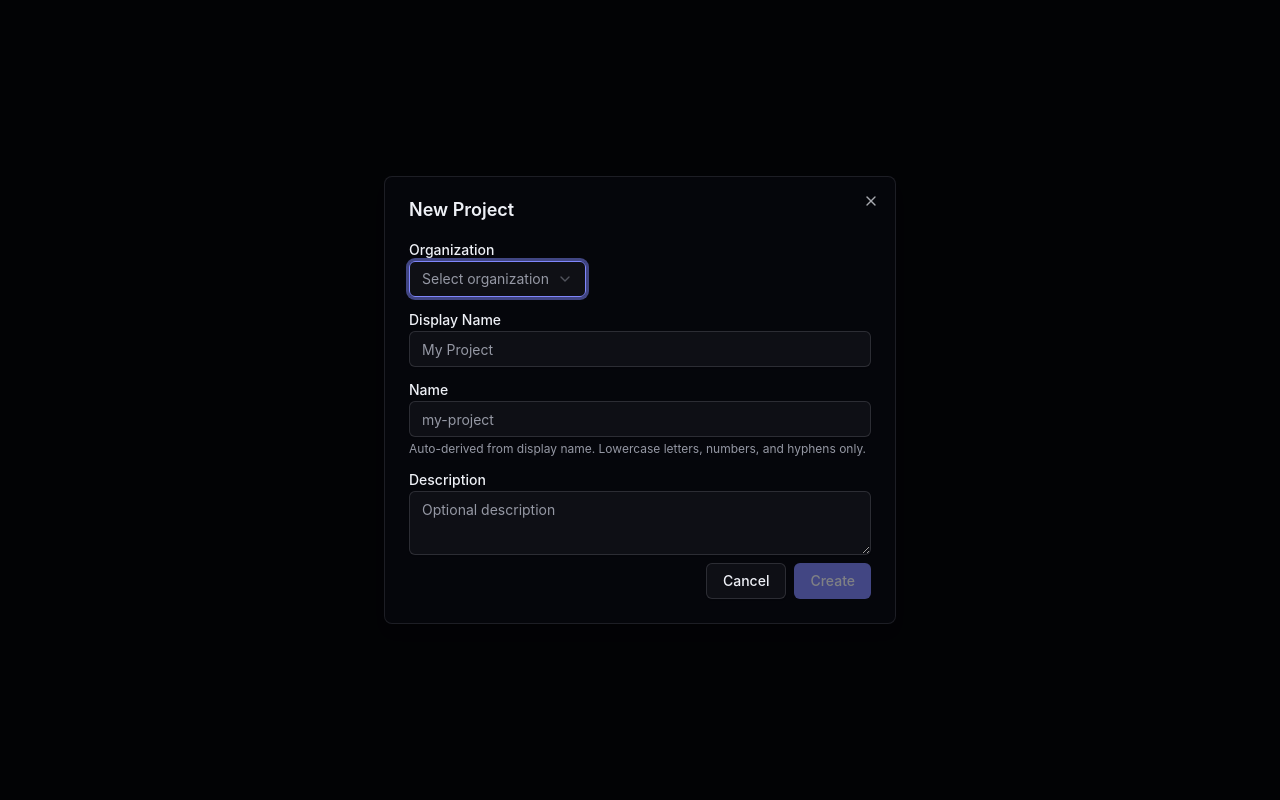
Test: CreateProjectDialog › re-enables auto-derivation when reset link is clicked
Type "Test Project" into the field with placeholder "My Project" at point(640, 349), box 409,331 -> 871,367
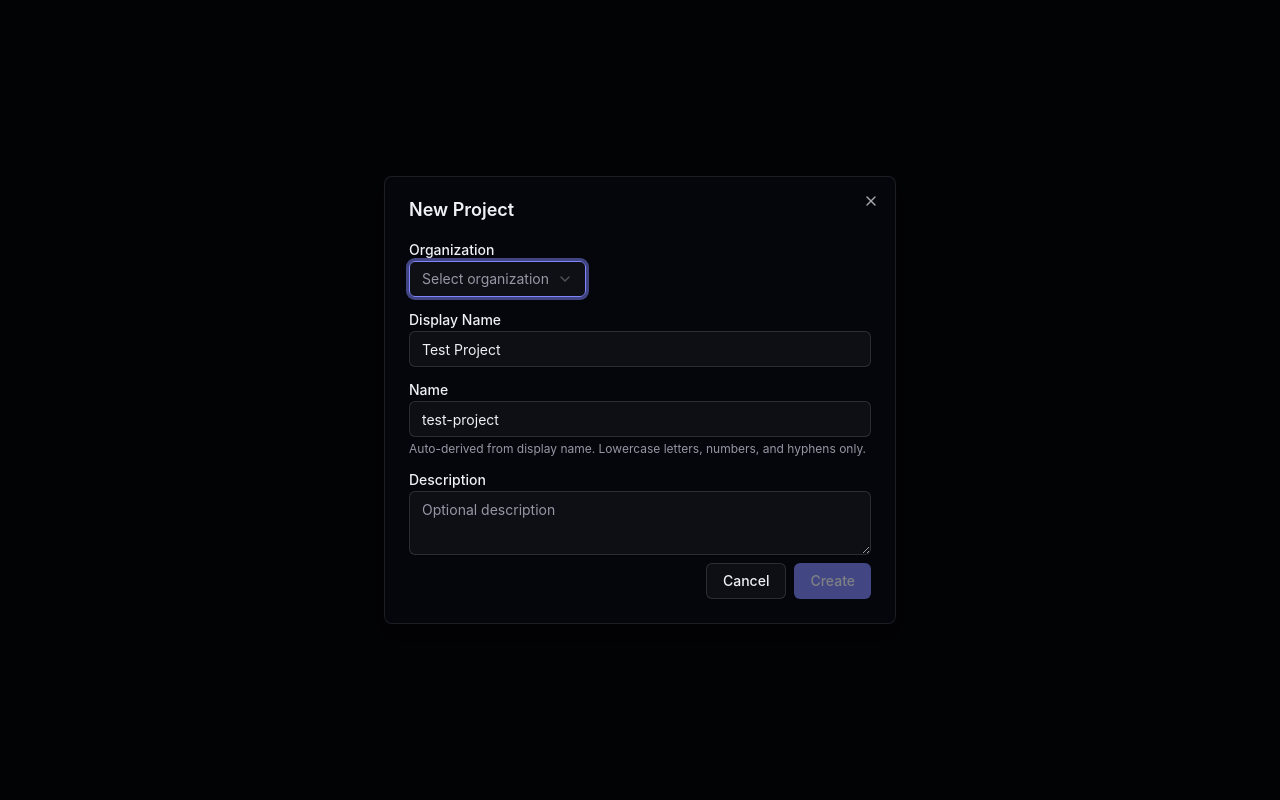
Replace the text in the field with placeholder "my-project" with "custom-slug" at point(640, 419), box 409,401 -> 871,437
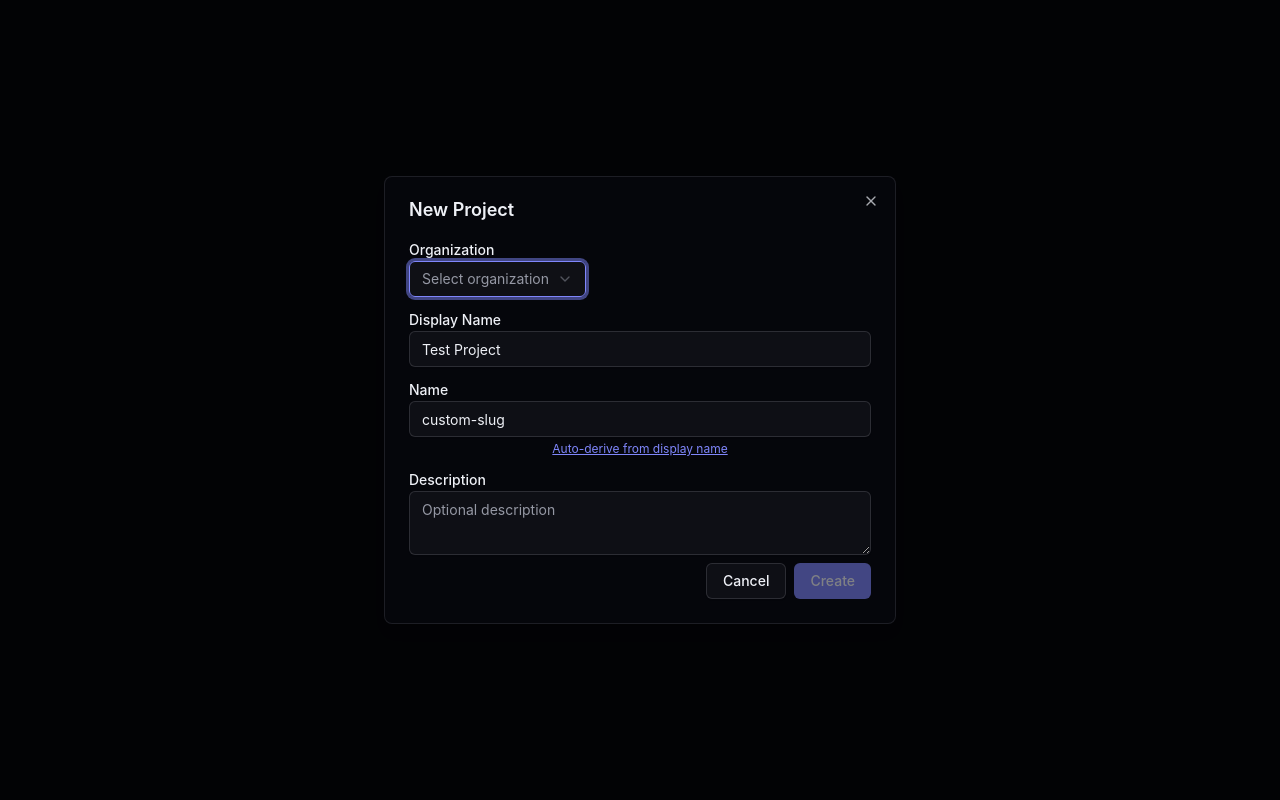
Click the button "Auto-derive from display name" at point(640, 449), box 409,441 -> 871,457
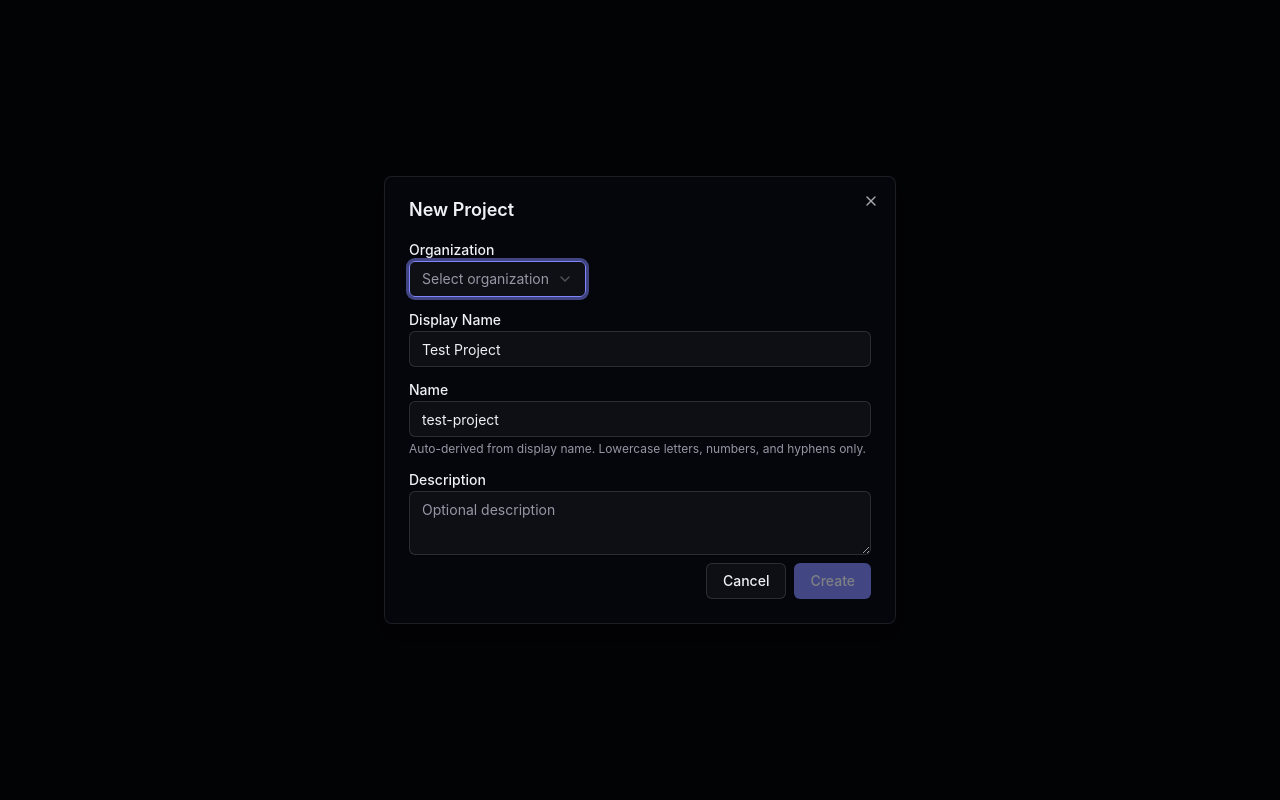
Now the field with placeholder "my-project" holds "test-project", box 409,401 -> 871,437
Replace the text in the field with placeholder "My Project" with "New Project" at point(640, 349), box 409,331 -> 871,367
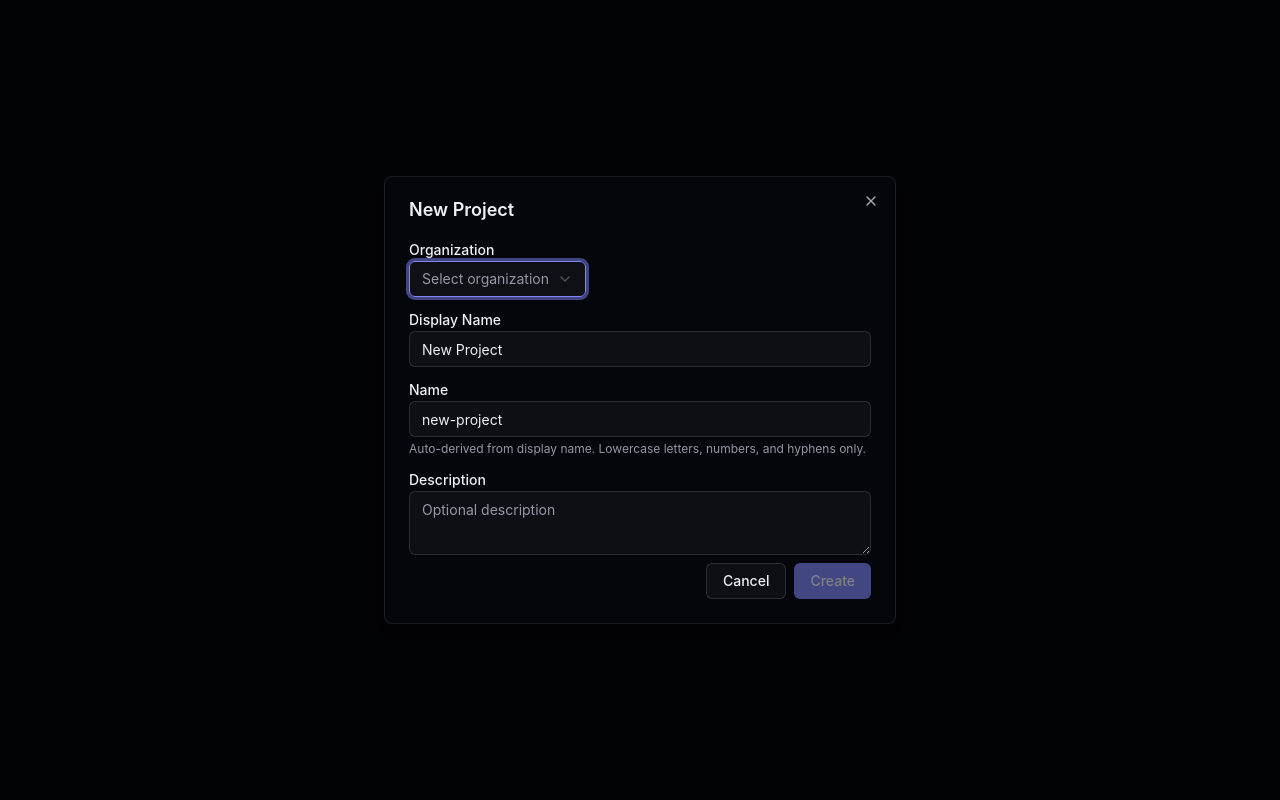
Now the field with placeholder "my-project" holds "new-project", box 409,401 -> 871,437
